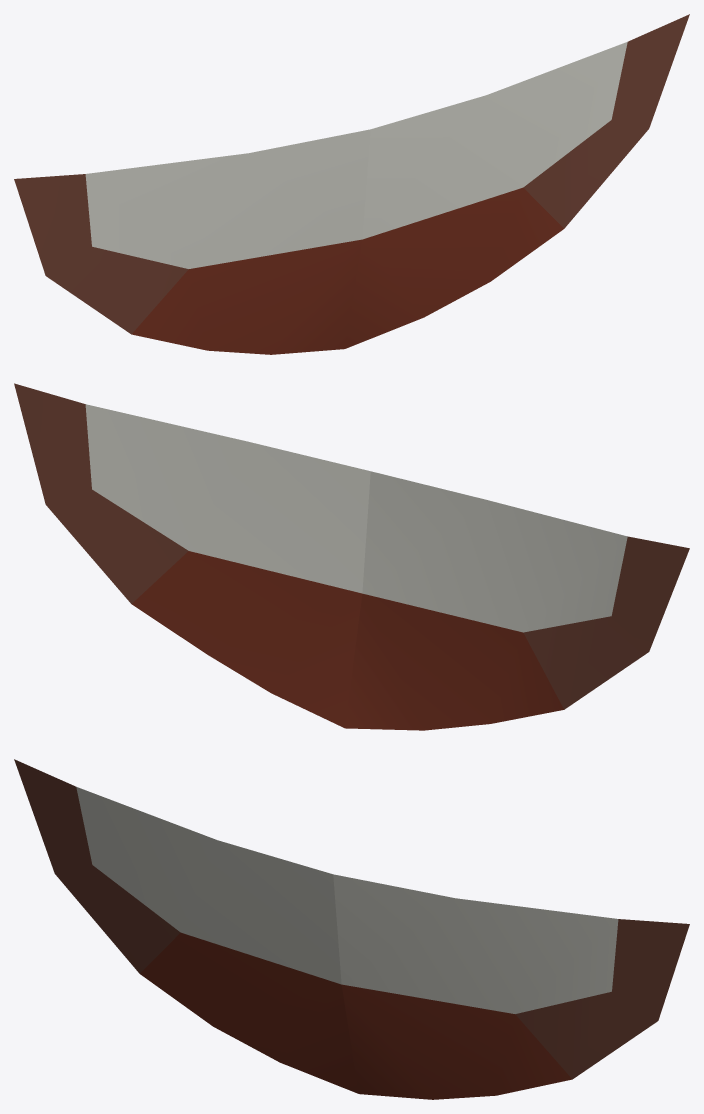
File: Mouth_Black_10.fbx
The picture shows the model from 3 angles, top to bottom: view 1: azimuth 30°, elevation 25°; view 2: azimuth 150°, elevation 25°; view 3: azimuth 330°, elevation 25°; orthographic projection.
Parts seen in each view (by area): view 1: Mouth_Black_10; view 2: Mouth_Black_10; view 3: Mouth_Black_10.
Part boxes in pixels (box(x1,y1,x2,y2)): Mouth_Black_10: box(14, 14, 689, 354); Mouth_Black_10: box(14, 383, 689, 730); Mouth_Black_10: box(14, 759, 689, 1099).
Size of the model in its own units: 10.48 by 3.82 by 0.6873.
